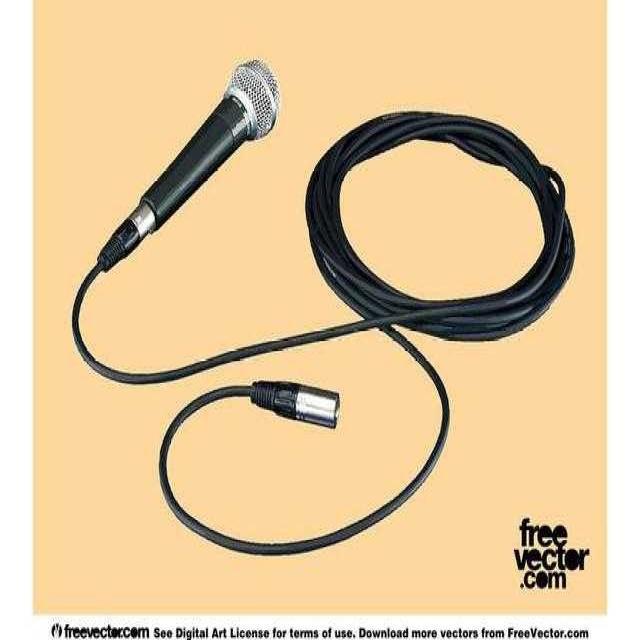microphone: (92, 56, 280, 280), (250, 378, 341, 430)
